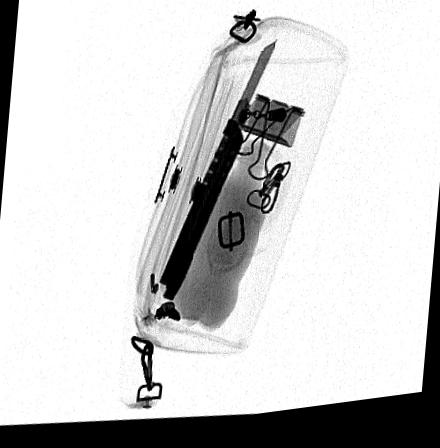Knife: (158, 47, 277, 307)
